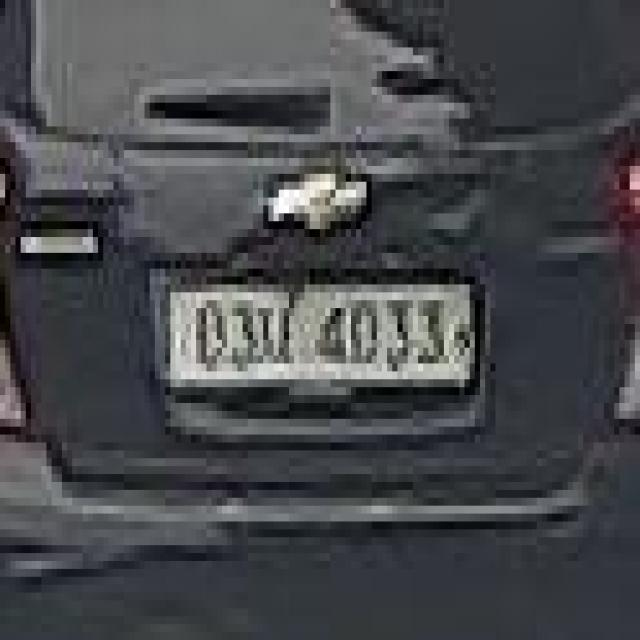illegal_plate: (160, 274, 484, 408)
